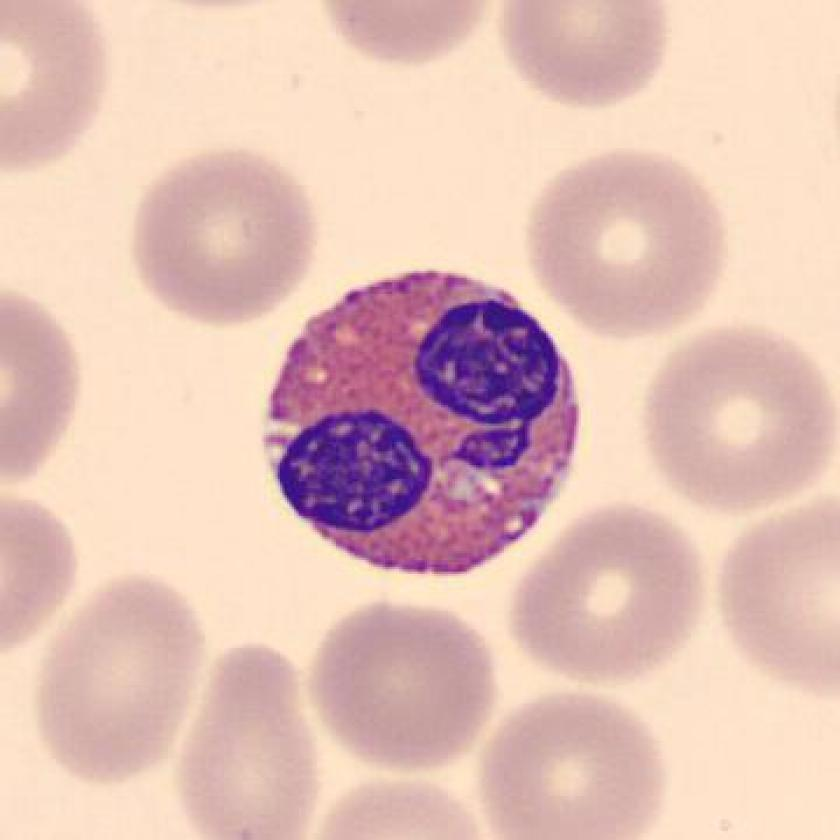eosinophil: (253, 258, 591, 584)
